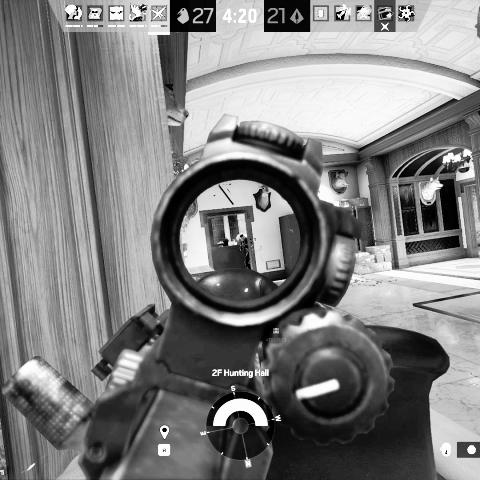Character: (240, 232, 252, 270)
Friend_label: (264, 326, 289, 343)
Head: (239, 233, 246, 240)
